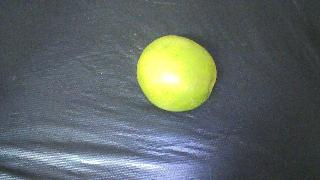LOCAL: (137, 35, 217, 112)
